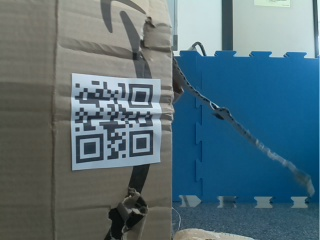caja_rota: (1, 1, 186, 240)
